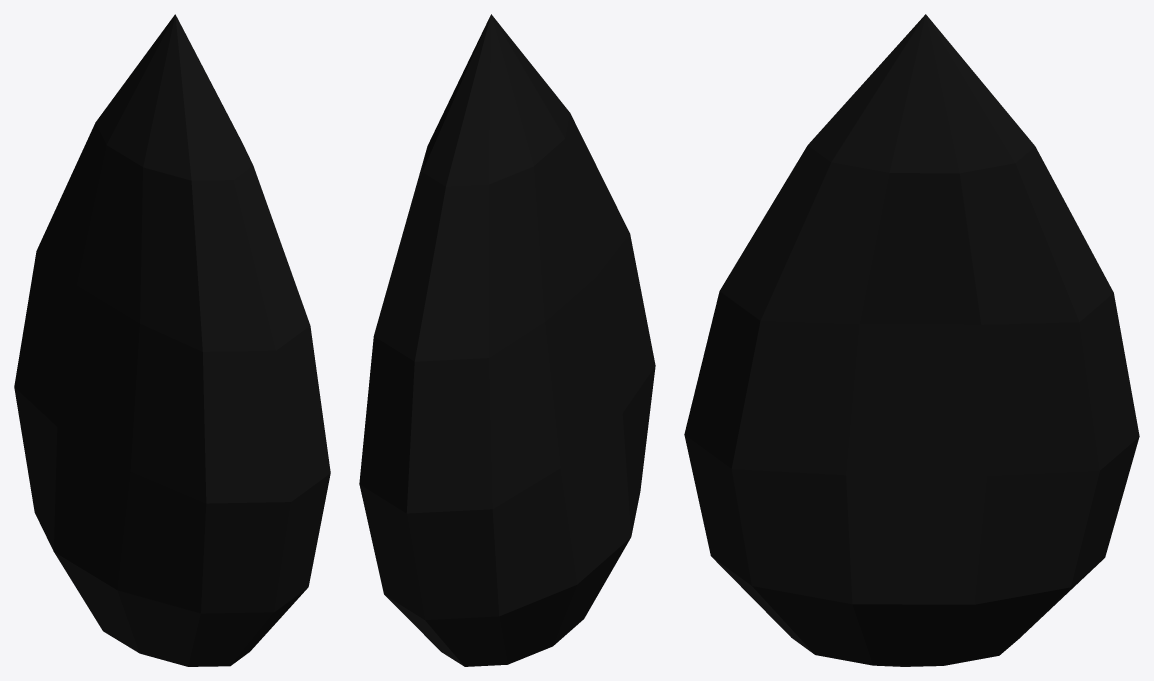
The model's file is cekirdekv1.fbx.
3 renders of one model, left to right at view 1: azimuth 30°, elevation 25°; view 2: azimuth 150°, elevation 25°; view 3: azimuth 270°, elevation 25°, orthographic. The views are drawn at different scales.
Visible parts, largest first — view 1: Cube.043; view 2: Cube.043; view 3: Cube.043.
Part boxes in pixels (x1,y1,x2,y2): Cube.043: (14,14,330,666); Cube.043: (359,14,655,666); Cube.043: (684,14,1139,666).
Size of the model in its own units: 8.73 by 28.97 by 18.1.
Materials: 1 (1 with a texture image).
